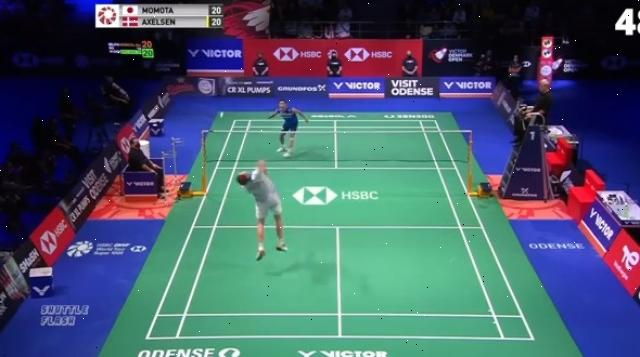Shuttlecock: (218, 110, 226, 120)
